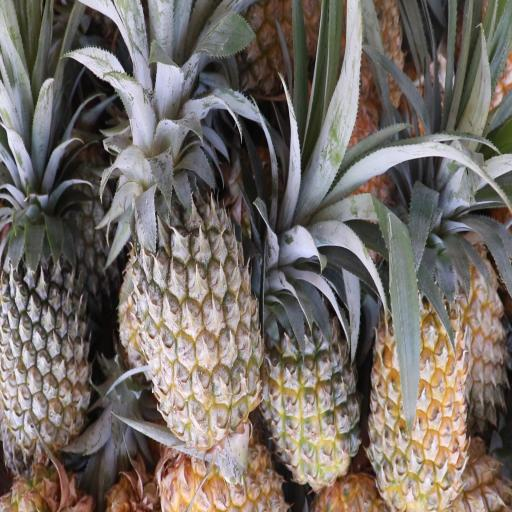------------------------------: (123, 133, 265, 473), (258, 274, 363, 501)
Pineapple - v8 v1: (365, 250, 472, 512)
